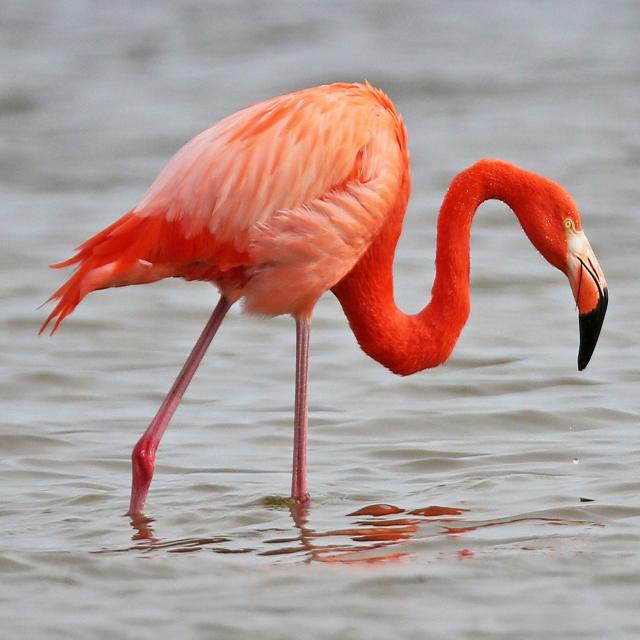Flamingo: (51, 71, 611, 523)
